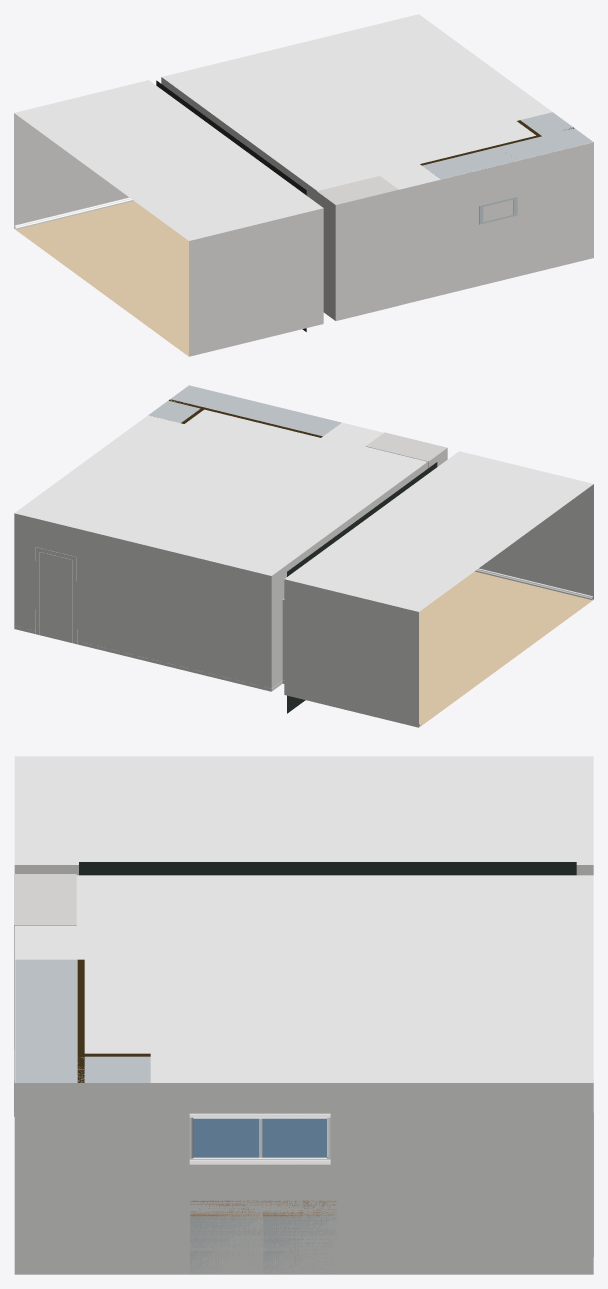
File: lowPolyKitchenWhole.glb
3 renders of one model, top to bottom at view 1: azimuth 30°, elevation 25°; view 2: azimuth 150°, elevation 25°; view 3: azimuth 270°, elevation 25°, orthographic. The views are drawn at different scales.
Visible parts, largest first — view 1: RoomWalls; view 2: RoomWalls; view 3: RoomWalls.
Boxes of the visible parts, bbox=[...] form: RoomWalls: bbox=[14, 14, 593, 356]; RoomWalls: bbox=[14, 385, 593, 727]; RoomWalls: bbox=[14, 756, 593, 1274].
Bounding box in the file's own units: 485 × 161 × 359.
Materials: 3 (3 with a texture image).
